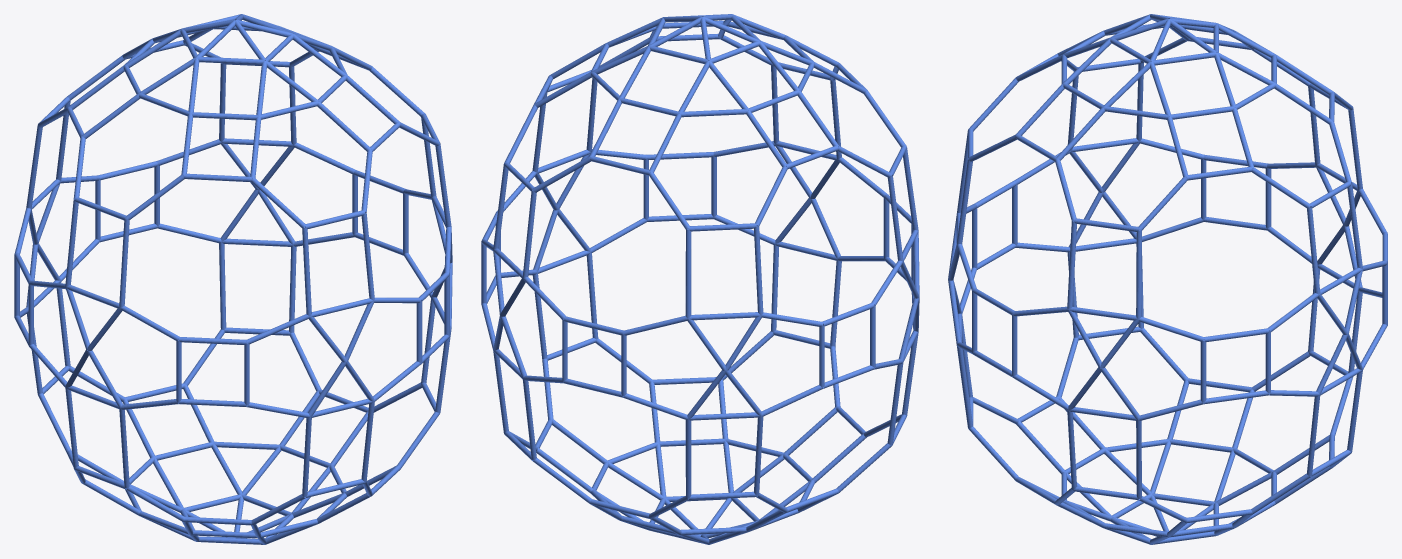
Rendered from trinexus4_1.glb.
The picture shows the model from 3 angles, left to right: view 1: azimuth 30°, elevation 25°; view 2: azimuth 150°, elevation 25°; view 3: azimuth 270°, elevation 25°; orthographic projection.
Visible parts, largest first — view 1: Mesh_89.003; view 2: Mesh_89.003; view 3: Mesh_89.003.
Boxes of the visible parts, x1=… form: Mesh_89.003: x1=14, y1=14, x2=452, y2=544; Mesh_89.003: x1=481, y1=14, x2=919, y2=544; Mesh_89.003: x1=948, y1=14, x2=1387, y2=544.
Bounding box in the file's own units: 9.62 × 12.67 × 9.68.
